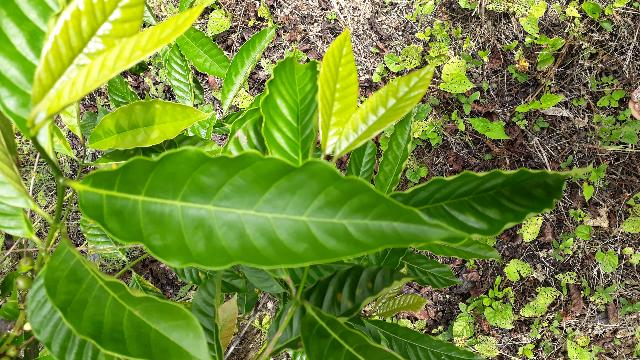healthy: (74, 146, 474, 270)
